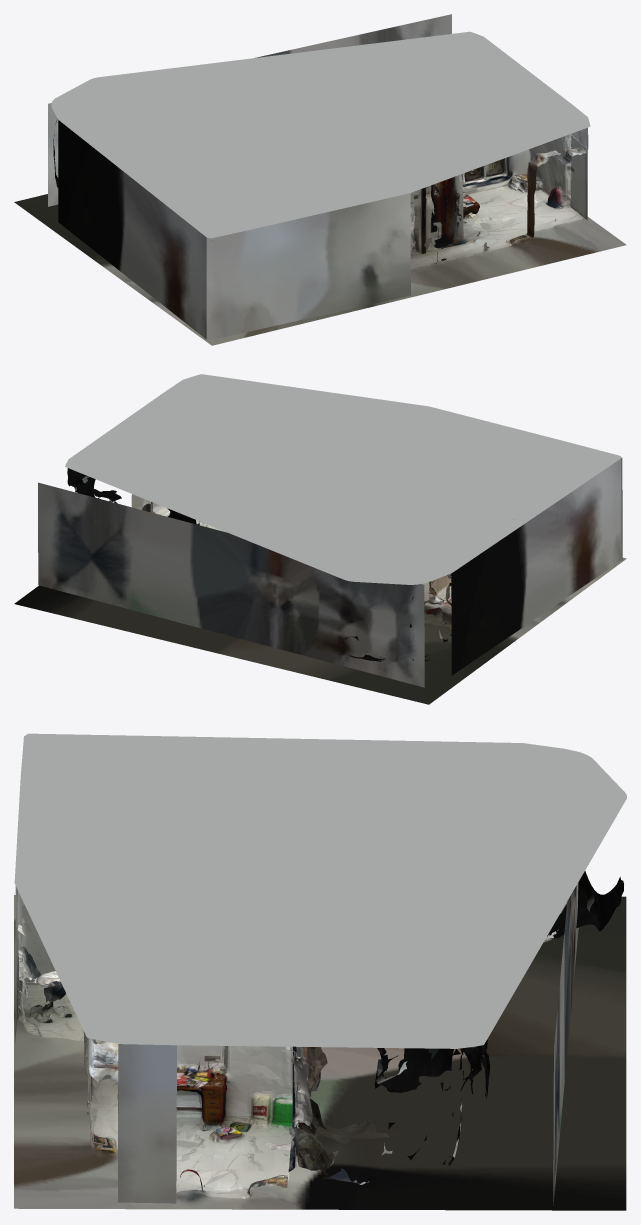
3 renders of one model, top to bottom at view 1: azimuth 30°, elevation 25°; view 2: azimuth 150°, elevation 25°; view 3: azimuth 270°, elevation 25°, orthographic. The views are drawn at different scales.
Size of the model in its own units: 11.38 by 2.77 by 9.4.
Materials: 5 (4 with a texture image).
